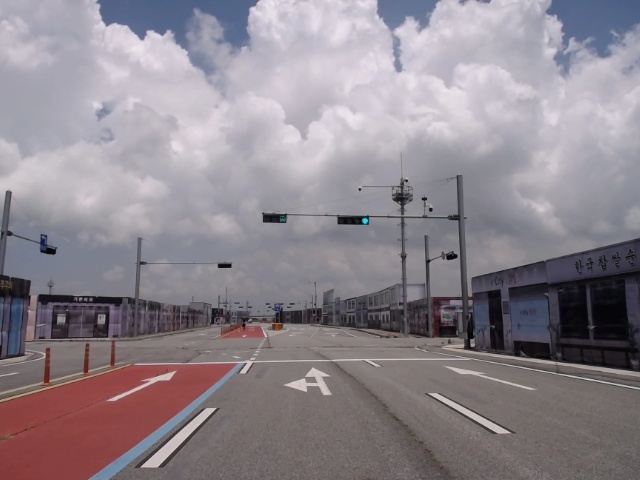straight_green_4: (337, 215, 370, 226)
